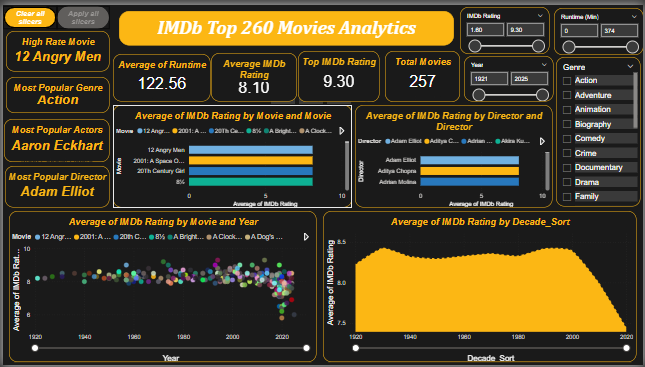

Layout of this report page (visuals, bound fields, positions):
{"tool":"powerbi","page":{"name":"Page 1","canvas":[1280,720],"ordinal":0},"visuals":[{"type":"stackedAreaChart","fields":{"Category":["tmdb_top260_with_imdb.Decade_Sort"],"Y":["Avg(tmdb_top260_with_imdb.IMDb Rating)"]},"box":[640,411.7,626.7,301.7],"z":0},{"type":"barChart","fields":{"Category":["Actors_Table.Movie"],"Y":["Avg(tmdb_top260_with_imdb.IMDb Rating)"],"Series":["Actors_Table.Movie"]},"box":[220,200.7,478.3,205],"z":1000},{"type":"card","title":"Average of Runtime ","fields":{"Values":["Avg(tmdb_top260_with_imdb.Runtime (Min))"]},"box":[220,98.3,195,95],"z":2000},{"type":"card","title":"Total Movies","fields":{"Values":["tmdb_top260_with_imdb.Total Movies"]},"box":[763.3,91.7,150,101.7],"z":3000},{"type":"card","title":"Top IMDb Rating","fields":{"Values":["tmdb_top260_with_imdb.Top IMDb Rating"]},"box":[590,91.7,163.3,101.7],"z":4000},{"type":"card","title":"Average IMDb Rating","fields":{"Values":["tmdb_top260_with_imdb.Average IMDb Rating"]},"box":[416.7,96.7,171.7,96.7],"z":5000},{"type":"barChart","fields":{"Category":["Director_Table.Director"],"Y":["Avg(tmdb_top260_with_imdb.IMDb Rating)"],"Series":["Director_Table.Director"]},"box":[703.3,200,395,205],"z":6000},{"type":"scatterChart","fields":{"Y":["Avg(tmdb_top260_with_imdb.IMDb Rating)"],"Series":["tmdb_top260_with_imdb.Movie"],"X":["tmdb_top260_with_imdb.Year"]},"box":[11.7,411.7,615,301.7],"z":7000},{"type":"slicer","fields":{"Values":["tmdb_top260_with_imdb.Runtime (Min)"]},"box":[1101.4,5.7,178.6,94.3],"z":8000},{"type":"slicer","fields":{"Values":["tmdb_top260_with_imdb.IMDb Rating"]},"box":[914.3,4.3,178.6,94.3],"z":9000},{"type":"slicer","fields":{"Values":["Genres_Table.Genre"]},"box":[1105.7,104.3,168.6,298.6],"z":10000},{"type":"slicer","fields":{"Values":["tmdb_top260_with_imdb.Year"]},"box":[922.9,101.4,178.6,91.4],"z":11000},{"type":"card","title":"High Rate Movie","fields":{"Values":["Min(Actors_Table.Movie)"]},"box":[5.7,51.4,207.1,81.4],"z":12000},{"type":"card","title":"Most Popular Director","fields":{"Values":["Min(Director_Table.Director)"]},"box":[4.3,322.9,208.6,82.9],"z":13000},{"type":"card","title":"Most Popular Actors","fields":{"Values":["Min(Actors_Table.Actors)"]},"box":[2.9,227.1,211.4,85.7],"z":14000},{"type":"card","title":"Most Popular Genre","fields":{"Values":["Min(Genres_Table.Genre)"]},"box":[6.7,143.3,206.7,71.7],"z":15000},{"type":"textbox","box":[231.4,11.4,670,68.6],"z":16000},{"type":"actionButton","box":[0,2.7,108.2,46.1],"z":17000},{"type":"actionButton","box":[108.2,2.7,104.6,46.1],"z":18000}]}

Visuals, with their boxes in screenshot pixels (x1, y1, x2, y2), scaled from the page's 1280x720 canvas onto the 645x367 screenshot:
stackedAreaChart - tmdb_top260_with_imdb.Decade_Sort x Avg(tmdb_top260_with_imdb.IMDb Rating): 322, 210, 638, 364
barChart - Actors_Table.Movie x Avg(tmdb_top260_with_imdb.IMDb Rating): 111, 102, 352, 207
"Average of Runtime " card: 111, 50, 209, 99
"Total Movies" card: 385, 47, 460, 99
"Top IMDb Rating" card: 297, 47, 380, 99
"Average IMDb Rating" card: 210, 49, 296, 99
barChart - Director_Table.Director x Avg(tmdb_top260_with_imdb.IMDb Rating): 354, 102, 553, 206
scatterChart - Avg(tmdb_top260_with_imdb.IMDb Rating) x tmdb_top260_with_imdb.Movie: 6, 210, 316, 364
slicer - tmdb_top260_with_imdb.Runtime (Min): 555, 3, 644, 51
slicer - tmdb_top260_with_imdb.IMDb Rating: 461, 2, 551, 50
slicer - Genres_Table.Genre: 557, 53, 642, 205
slicer - tmdb_top260_with_imdb.Year: 465, 52, 555, 98
"High Rate Movie" card: 3, 26, 107, 68
"Most Popular Director" card: 2, 165, 107, 207
"Most Popular Actors" card: 1, 116, 108, 159
"Most Popular Genre" card: 3, 73, 108, 110
textbox: 117, 6, 454, 41
actionButton: 0, 1, 55, 25
actionButton: 55, 1, 107, 25
